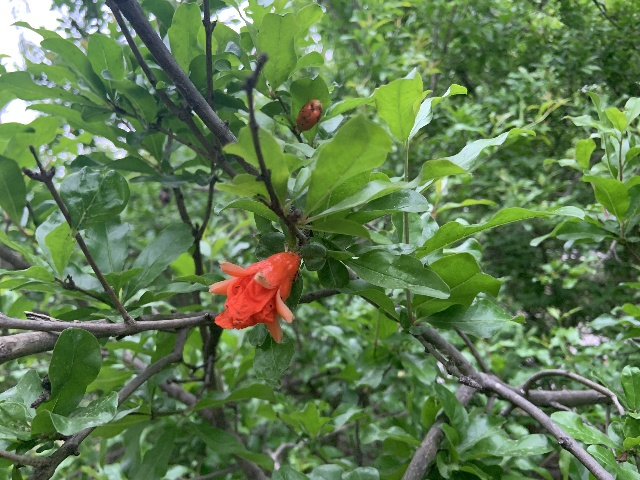bud: (295, 98, 322, 131)
flower: (209, 251, 299, 342)
